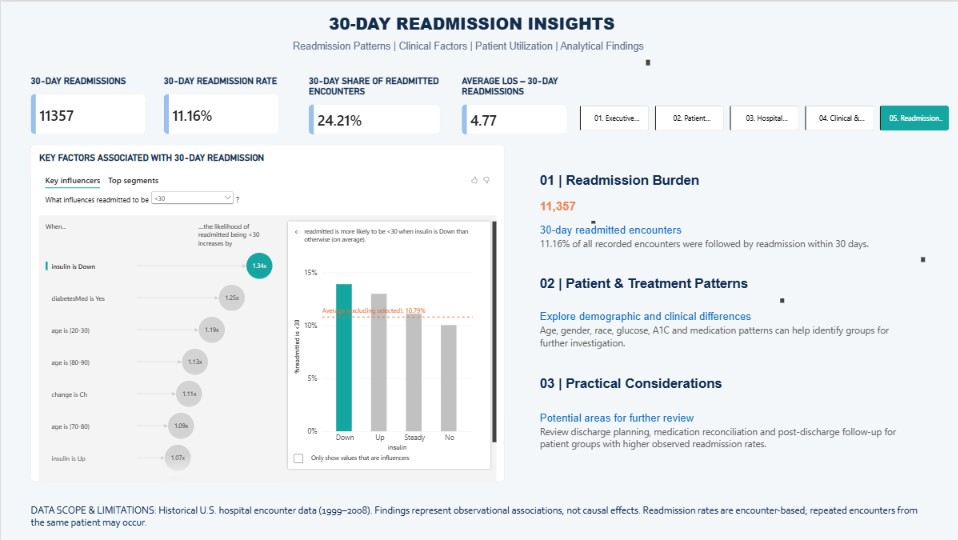

This screenshot's page, from the dashboard's own definition file:
{"tool":"powerbi","page":{"name":"05. Readmission Insights","canvas":[1920,1080],"ordinal":4},"visuals":[{"type":"textbox","title":"30-DAY READMISSION INSIGHTS","box":[655.2,20.2,611,57.1],"z":0},{"type":"textbox","title":"01 | Readmission Burden","box":[1077.5,342.5,450.4,45.2],"z":0,"group":"g1"},{"type":"textbox","box":[583.4,77.3,714.1,49.7],"z":1000},{"type":"textbox","title":"11,357","box":[1077.5,395.7,111.5,47.9],"z":1000,"group":"g1"},{"type":"cardVisual","title":"30-DAY READMISSIONS","fields":{"Data":["Measure.30-Day Readmissions"]},"box":[60,148,230.1,117.8],"z":2000},{"type":"textbox","title":"30-day readmitted encounters","box":[1077.5,443.6,770,77.1],"z":2000,"group":"g1"},{"type":"cardVisual","title":"30-DAY READMISSION RATE","fields":{"Data":["Measure.30-Day Readmission Rate"]},"box":[326,148,230.1,117.8],"z":3000},{"type":"textbox","title":"02 | Patient & Treatment Patterns","box":[1077.5,549.3,488.5,54.3],"z":3000,"group":"g1"},{"type":"cardVisual","title":"30-DAY SHARE OF READMITTED ENCOUNTERS","fields":{"Data":["Measure.30-Day Share of Readmissions"]},"box":[616,148,263.2,117.8],"z":4000},{"type":"textbox","title":"Explore demographic and clinical differences","box":[1077.5,618.2,751.8,114.9],"z":4000,"group":"g1"},{"type":"keyDriversVisual","title":"KEY FACTORS ASSOCIATED WITH 30-DAY READMISSION","fields":{"ExplainBy":["Fact_Encounters.age","Fact_Encounters.gender","Fact_Encounters.race","Fact_Encounters.insulin","Fact_Encounters.change","Fact_Encounters.diabetesMed","Fact_Encounters.admission_type_id"],"Target":["Fact_Encounters.readmitted"]},"box":[60,286,948,674],"z":5000},{"type":"textbox","title":"03 | Practical Considerations","box":[1077.5,747.7,488.5,68.9],"z":5000,"group":"g1"},{"type":"group","id":"g1","title":"Group 1","box":[1077.5,342.5,770,617.5],"z":6000},{"type":"textbox","title":"Potential areas for further review","box":[1077.5,820.2,751.8,139.8],"z":6000,"group":"g1"},{"type":"textbox","title":"DATA SCOPE & LIMITATIONS: Historical U.S. hospital encounter data (1999–2008). Findings represent observational associations, not causal effects. Readmission rates are encounter-based; repeated encoun","box":[60,1004,1798,50],"z":7000},{"type":"cardVisual","title":"AVERAGE LOS – 30-DAY READMISSIONS","fields":{"Data":["Measure.Average LOS - 30 Day Readmissions"]},"box":[922.5,147.5,211.7,117.8],"z":8000},{"type":"pageNavigator","box":[1157.5,207.5,742.5,50],"z":9000}]}

Visuals, with their boxes in screenshot pixels (x1, y1, x2, y2), scaled from the page's 1920x1080 canvas onto the 958x540 screenshot:
"30-DAY READMISSION INSIGHTS" textbox: 327,10,632,39
"01 | Readmission Burden" textbox: 538,171,762,194
textbox: 291,39,647,64
"11,357" textbox: 538,198,593,222
"30-DAY READMISSIONS" cardVisual: 30,74,145,133
"30-day readmitted encounters" textbox: 538,222,922,260
"30-DAY READMISSION RATE" cardVisual: 163,74,277,133
"02 | Patient & Treatment Patterns" textbox: 538,275,781,302
"30-DAY SHARE OF READMITTED ENCOUNTERS" cardVisual: 307,74,439,133
"Explore demographic and clinical differences" textbox: 538,309,913,367
"KEY FACTORS ASSOCIATED WITH 30-DAY READMISSION" keyDriversVisual: 30,143,503,480
"03 | Practical Considerations" textbox: 538,374,781,408
"Group 1" group: 538,171,922,480
"Potential areas for further review" textbox: 538,410,913,480
"DATA SCOPE & LIMITATIONS: Historical U.S. hospital encounter data (1999–2008). Findings represent observational associations, not causal effects. Readmission rates are encounter-based; repeated encoun" textbox: 30,502,927,527
"AVERAGE LOS – 30-DAY READMISSIONS" cardVisual: 460,74,566,133
pageNavigator: 578,104,948,129
